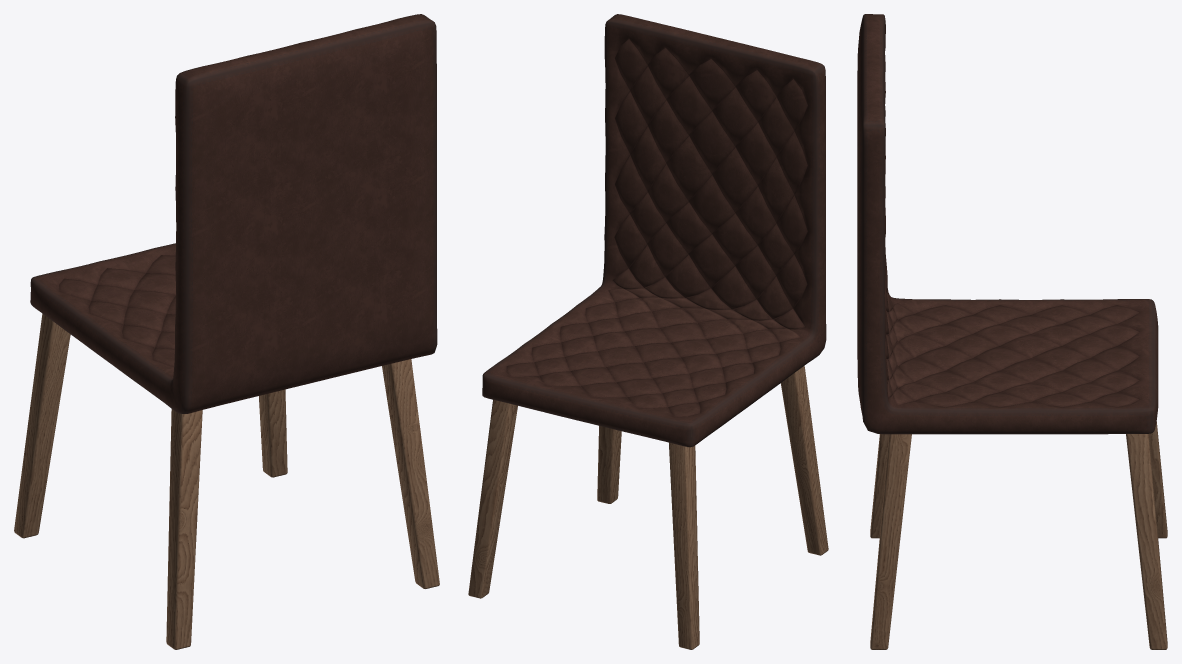
The model's file is Chair17.fbx.
The picture shows the model from 3 angles, left to right: view 1: azimuth 30°, elevation 25°; view 2: azimuth 150°, elevation 25°; view 3: azimuth 270°, elevation 25°; orthographic projection. The views are drawn at different scales.
Visible parts, largest first — view 1: Chair17; view 2: Chair17; view 3: Chair17.
Boxes of the visible parts, x1,y1,x2,y2 form: Chair17: (14, 14, 439, 649); Chair17: (468, 14, 828, 649); Chair17: (857, 14, 1167, 649).
Bounding box in the file's own units: 45.42 × 93.69 × 50.06.
